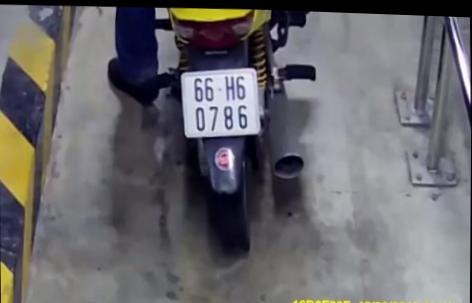LP: (178, 64, 262, 138)
